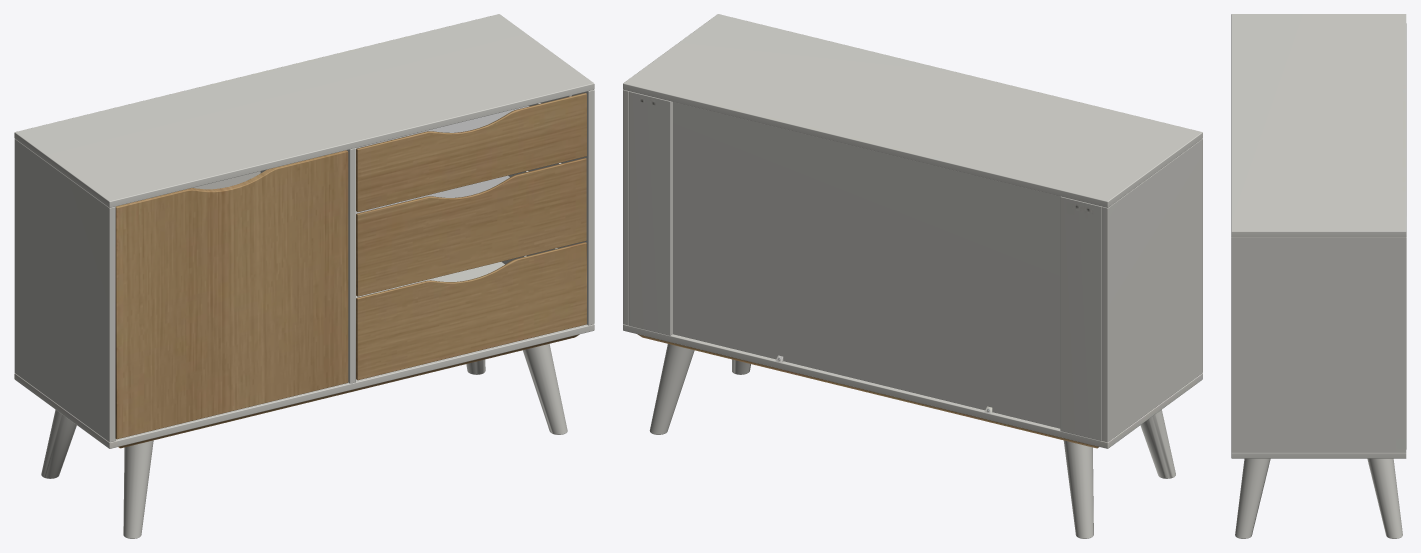
Rendered from B07QF9ZFQZ.glb.
3 renders of one model, left to right at view 1: azimuth 30°, elevation 25°; view 2: azimuth 150°, elevation 25°; view 3: azimuth 270°, elevation 25°, orthographic. The views are drawn at different scales.
Parts seen in each view (by area): view 1: RootNode; view 2: RootNode; view 3: RootNode.
Boxes of the visible parts, bbox=[...] form: RootNode: bbox=[14, 14, 594, 538]; RootNode: bbox=[623, 14, 1202, 538]; RootNode: bbox=[1231, 14, 1406, 538].
Bounding box in the file's own units: 1.19 × 0.8122 × 0.406.
1 material, 1 textured.
